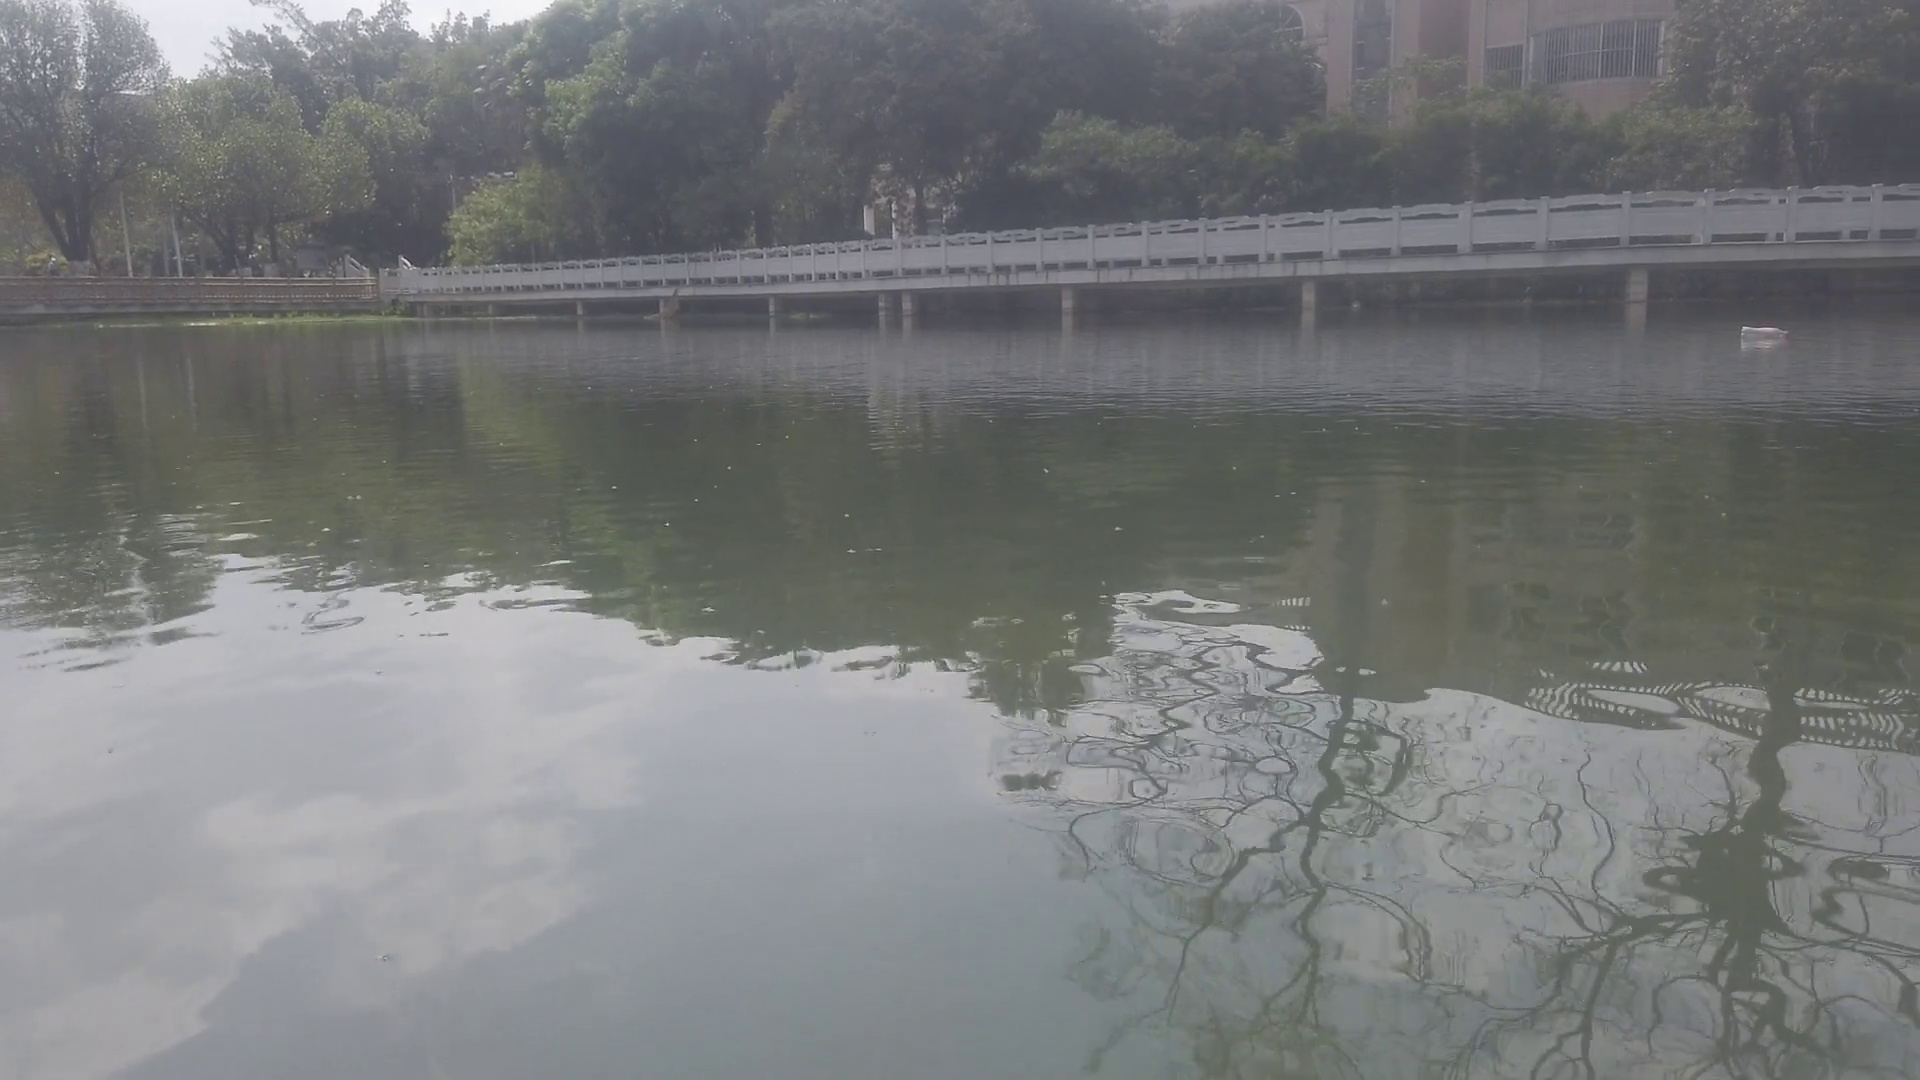bottle: (1738, 323, 1792, 344)
